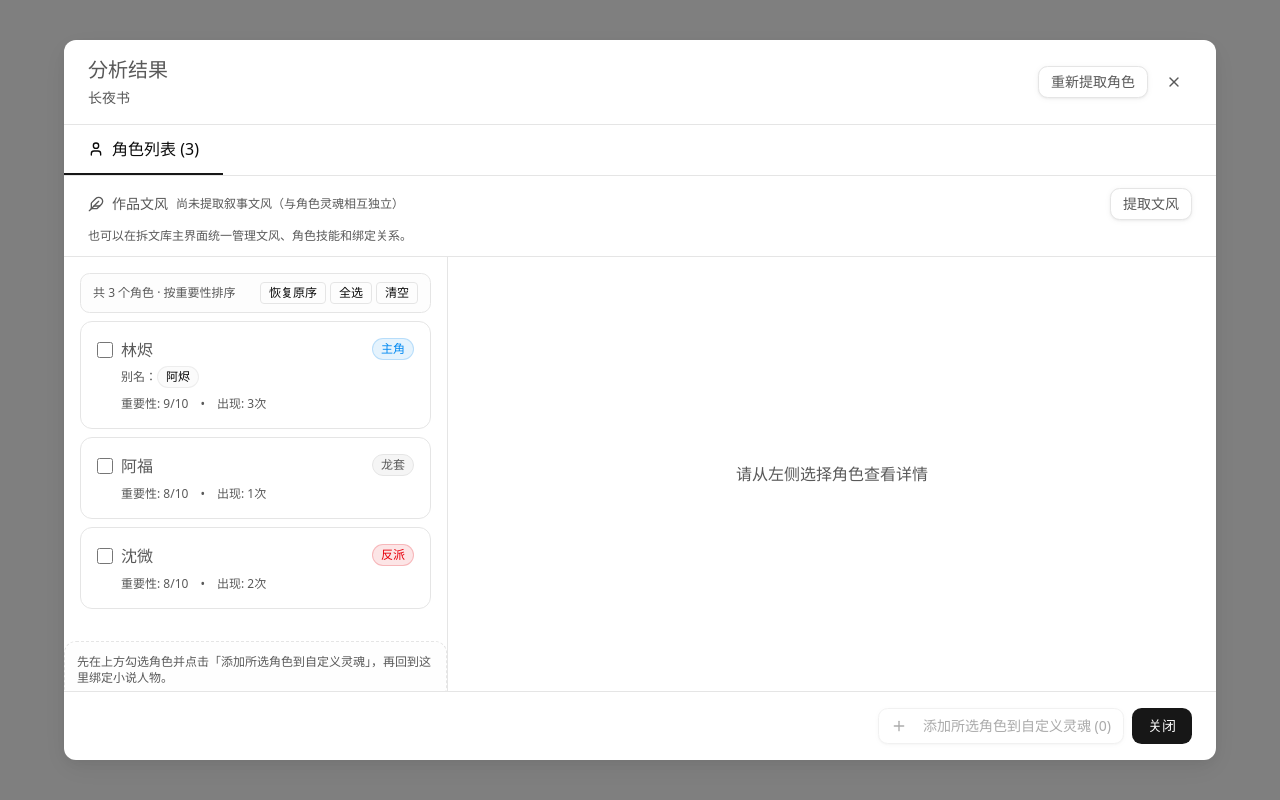
it: BookAnalysisResultViewer › imports selected character skills as auras and binds them
Click the 1st checkbox.
click(105, 350)  # box [97, 342, 113, 358]
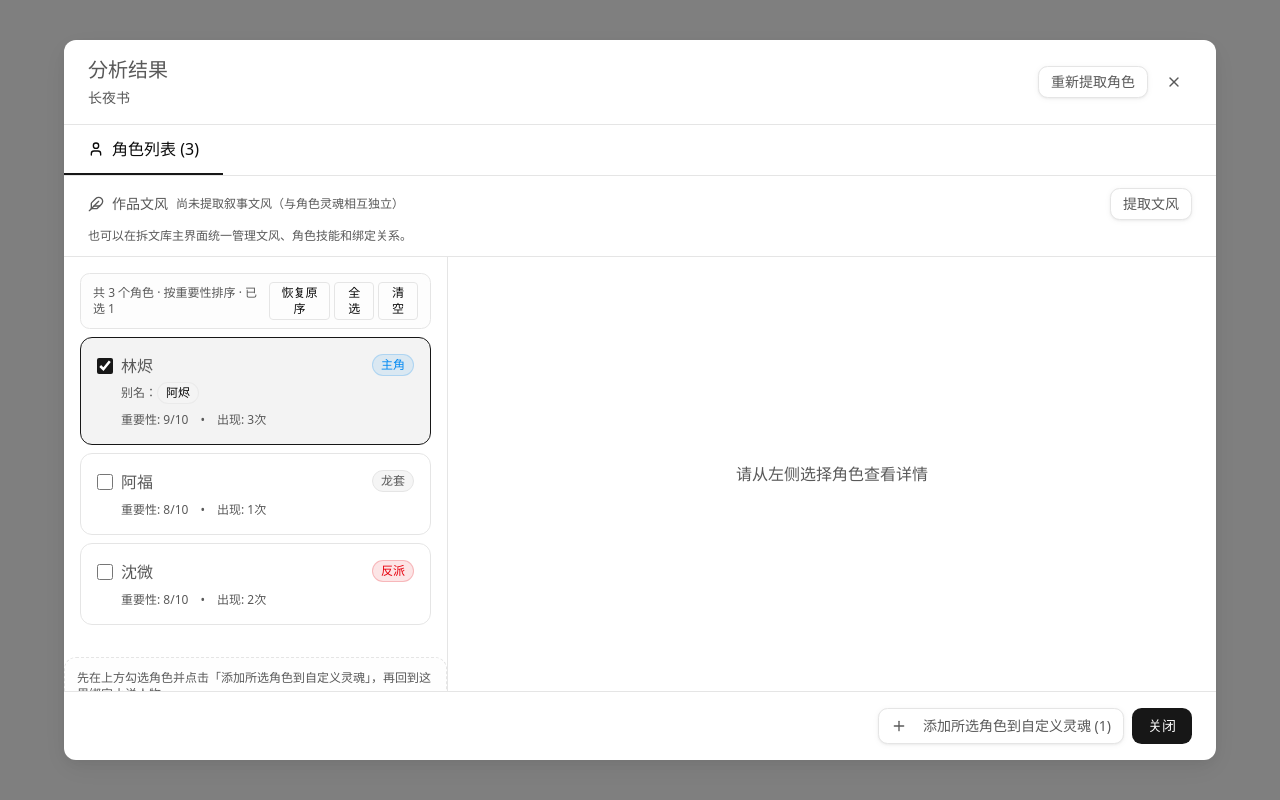
Click the button "添加所选角色到自定义灵魂 (1)".
click(1001, 726)  # box [878, 708, 1124, 744]
(page scrolled)
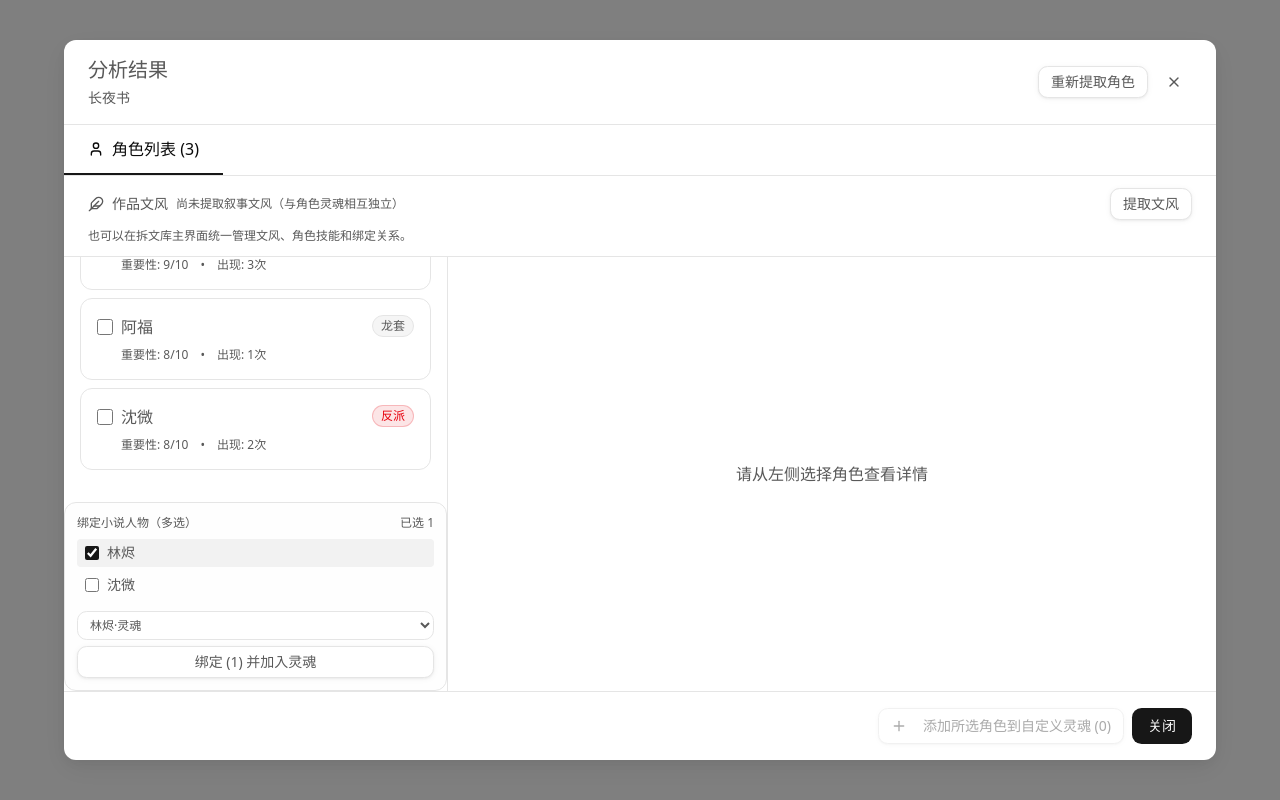
Check: the text "绑定小说人物（多选）" is shown, box [77, 515, 197, 531]
绑定成功：默认已选林烬
Click the button "绑定 (1) 并加入灵魂".
click(256, 662)  # box [77, 646, 434, 678]
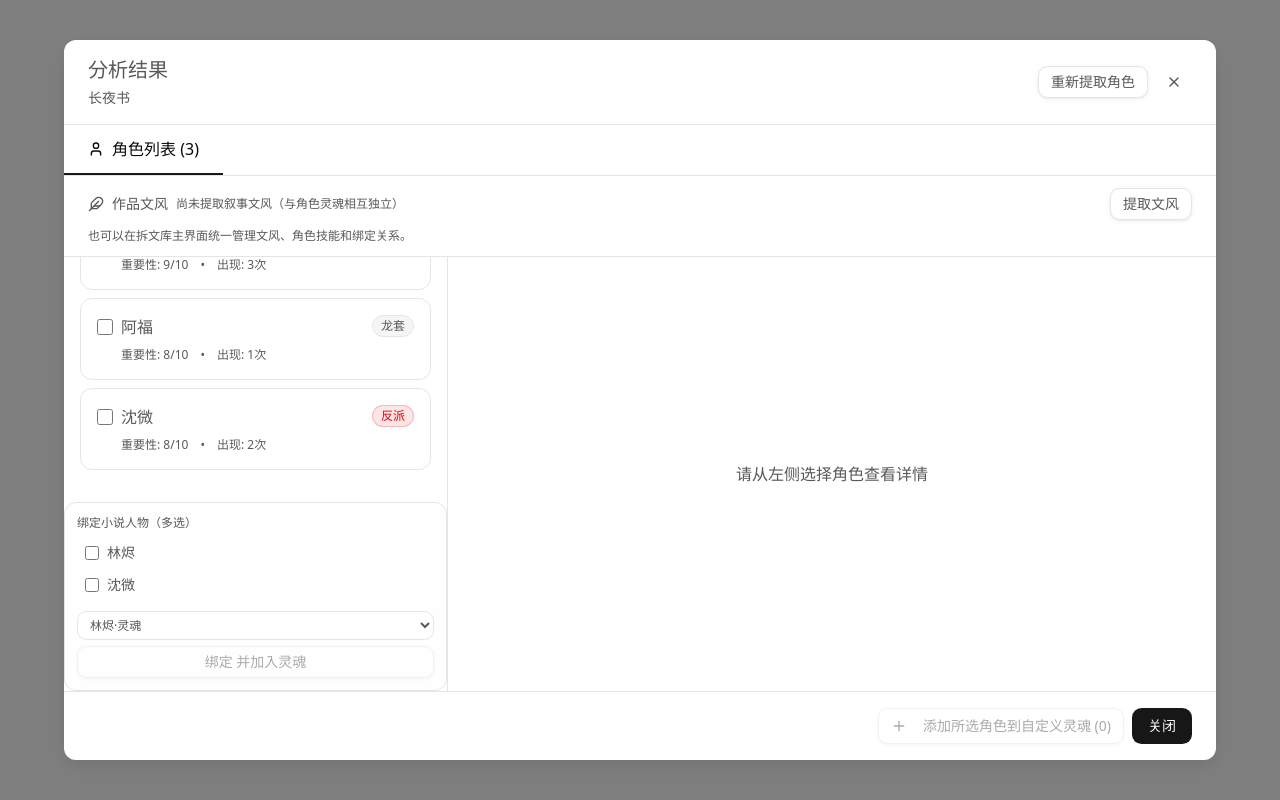
Check: the text "已选 1" is gone
